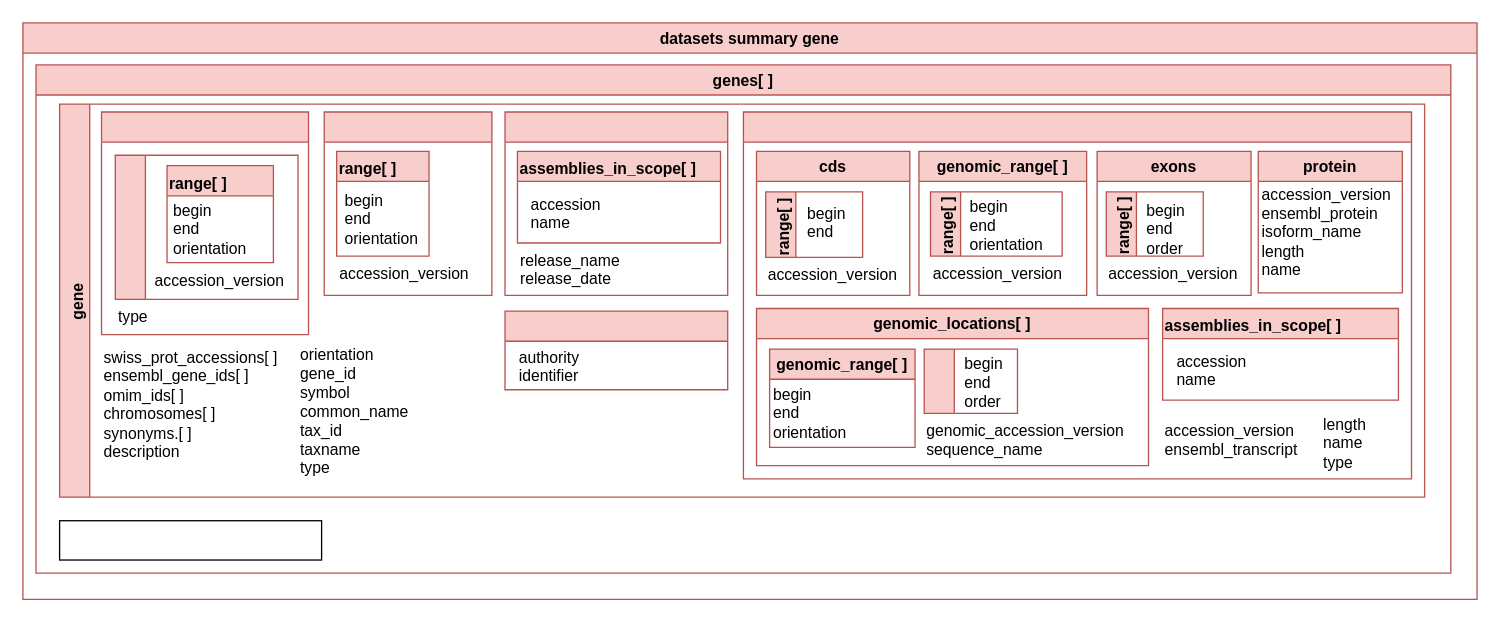
Some shapes in this 1500 by 622 pixel diagram are drawn without their labels. The box of each missing label's shape, as (x1, y1, x2, y2) in pixels:
annotations[ ]: (504, 111, 728, 295)
exons[ ]: (923, 348, 1017, 413)
gene_range: (114, 154, 298, 299)
genomic_ranges[ ]: (323, 111, 492, 295)
nomenclature _authority: (504, 310, 728, 390)
query: (58, 519, 322, 560)
reference_standards[ ]: (100, 111, 309, 335)
transcripts[ ]: (742, 111, 1412, 479)
